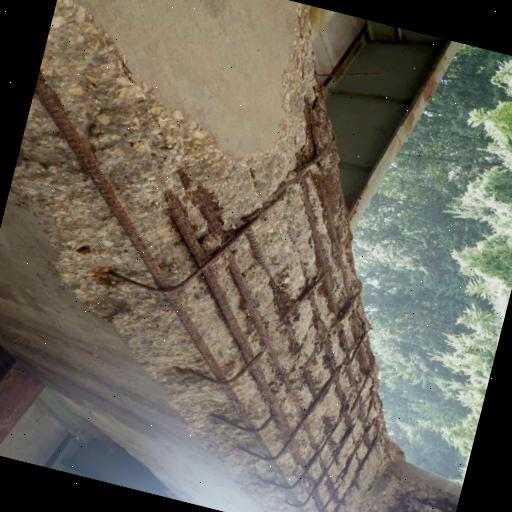spalling: (10, 0, 393, 512)
